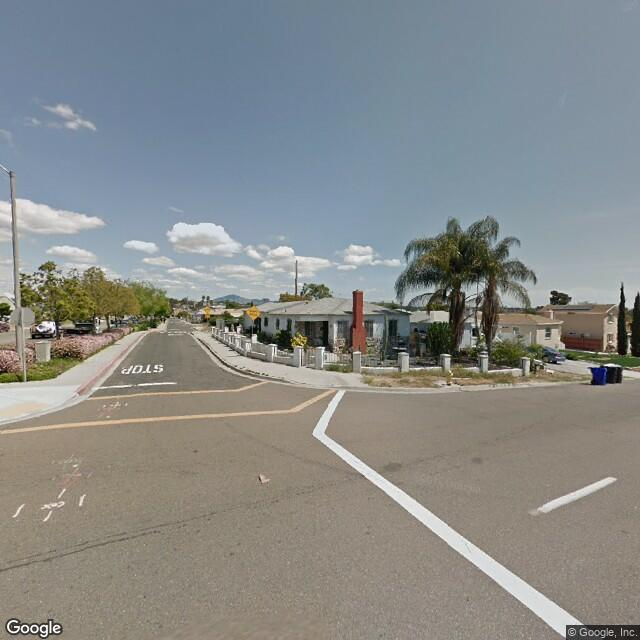litter: (257, 476, 273, 490)
